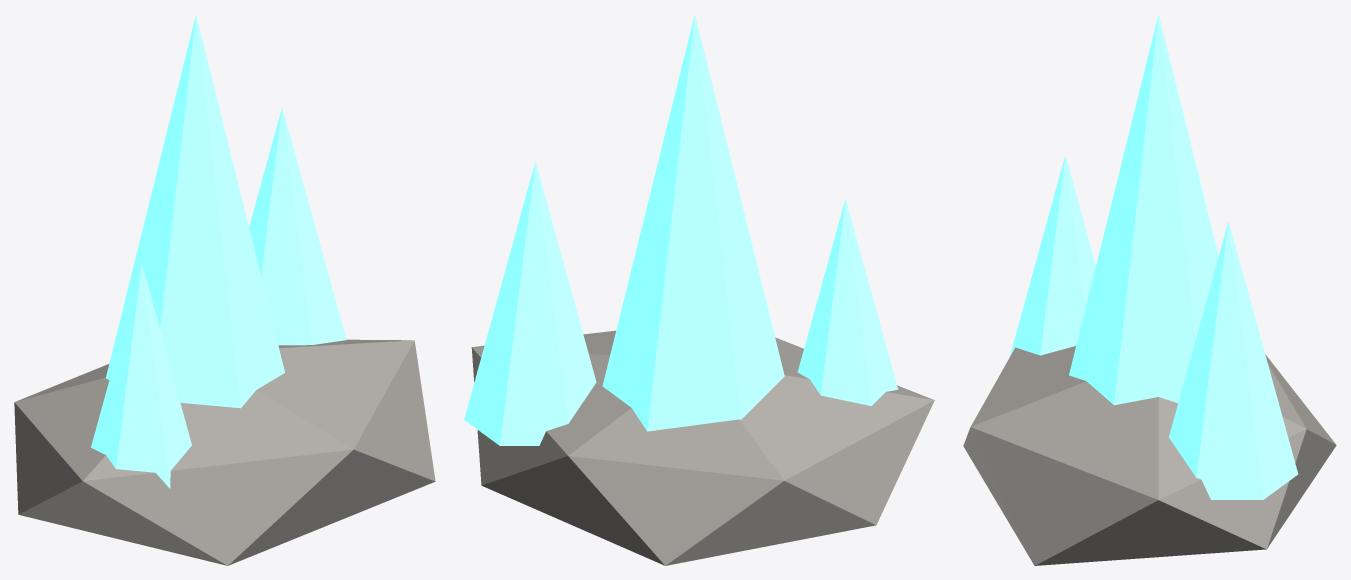
File: cristal_bruto.glb
3 renders of one model, left to right at view 1: azimuth 30°, elevation 25°; view 2: azimuth 150°, elevation 25°; view 3: azimuth 270°, elevation 25°, orthographic. The views are drawn at different scales.
Parts seen in each view (by area): view 1: cristal_bruto; view 2: cristal_bruto; view 3: cristal_bruto.
Boxes of the visible parts, x1=… form: cristal_bruto: x1=14, y1=14, x2=435, y2=565; cristal_bruto: x1=464, y1=14, x2=934, y2=565; cristal_bruto: x1=963, y1=14, x2=1336, y2=565.
Size of the model in its own units: 0.1964 by 0.2352 by 0.1603.
